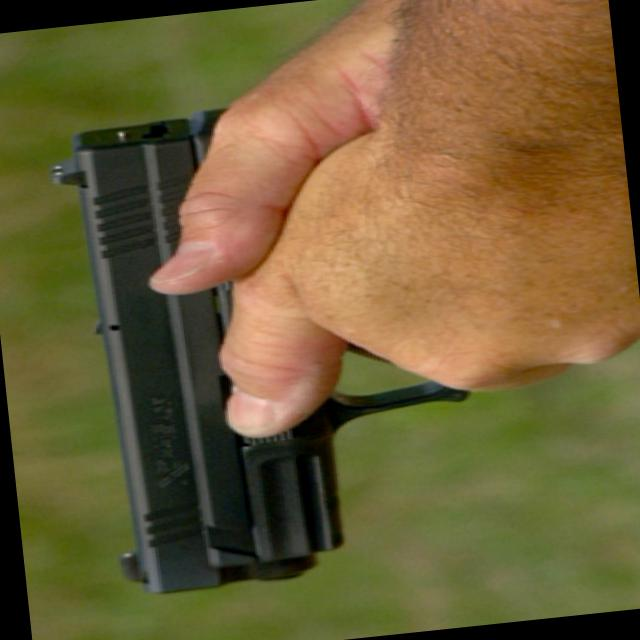handgun: (24, 76, 536, 610)
